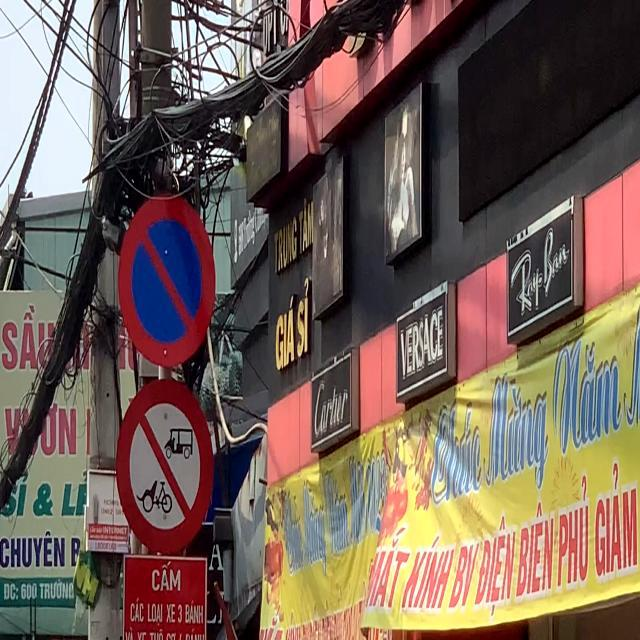Cam do xe: (119, 191, 216, 370)
